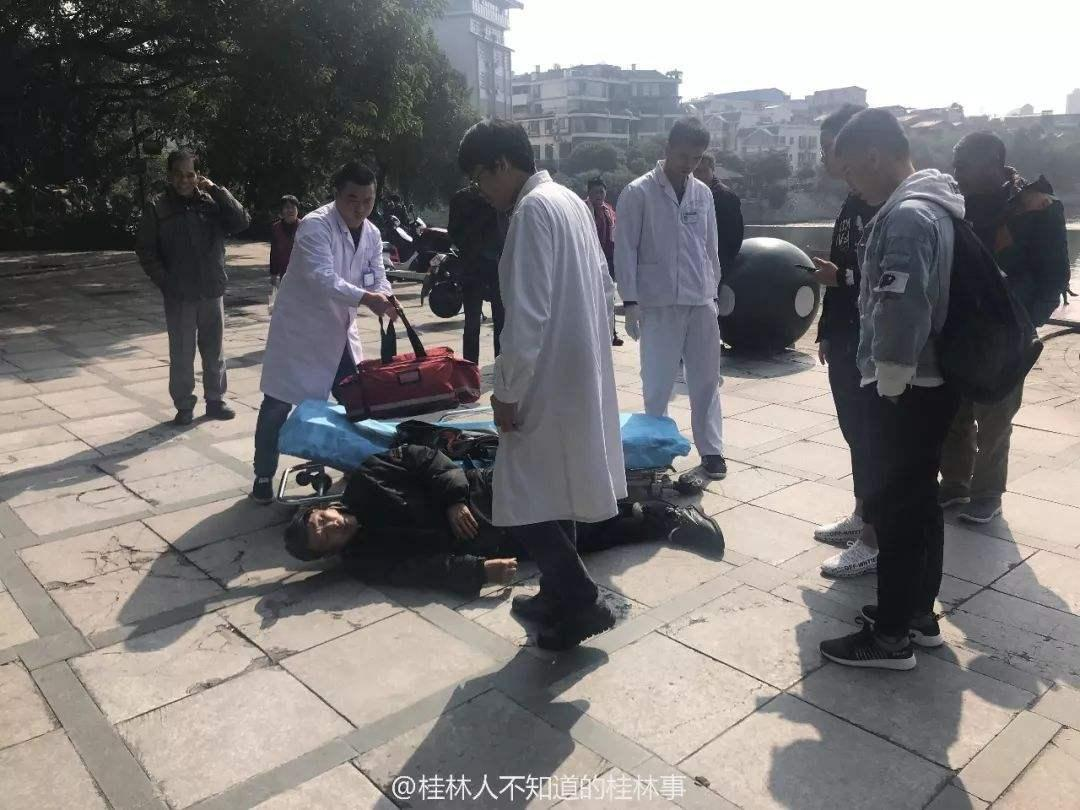down: (260, 428, 739, 598)
up: (450, 108, 629, 655), (824, 107, 974, 690), (247, 155, 398, 518), (937, 120, 1063, 541), (798, 102, 897, 585), (613, 112, 737, 482), (130, 118, 254, 431)
